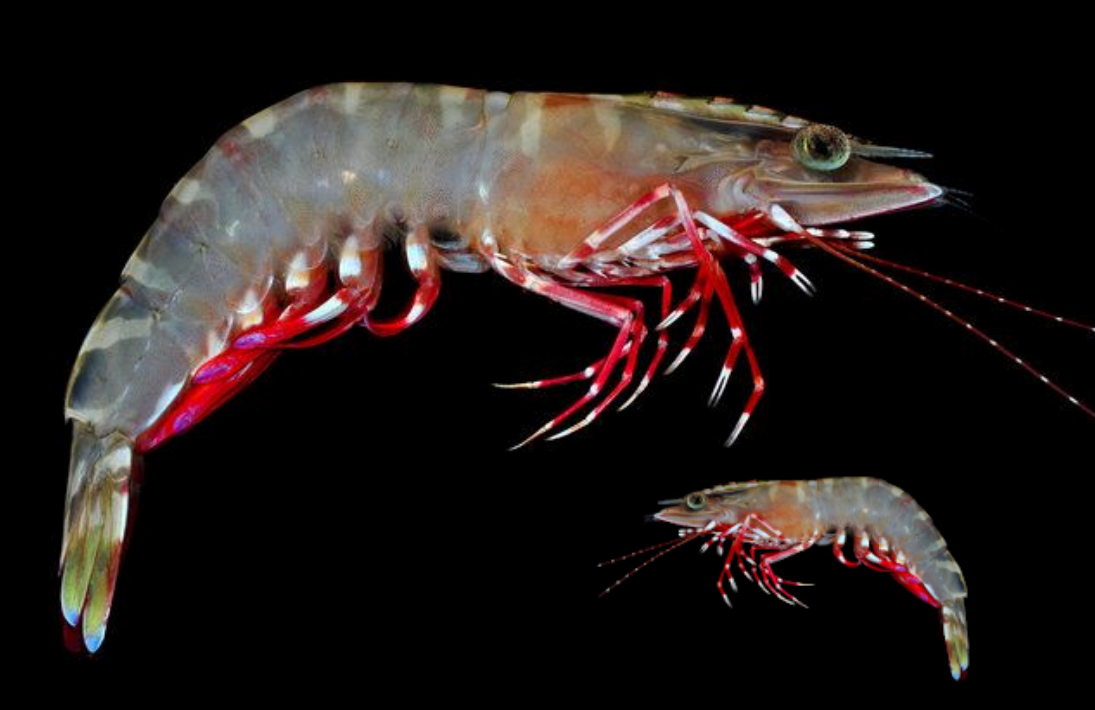shrimp_full_middle: (615, 472, 986, 684)
shrimp_full_near: (40, 52, 1003, 660)
